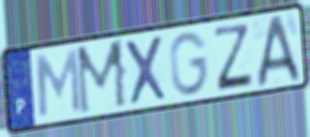A: (254, 12, 303, 90)
G: (168, 30, 211, 98)
M: (74, 36, 130, 118), (34, 47, 83, 120)
X: (122, 33, 170, 108)
Z: (213, 22, 256, 93)
